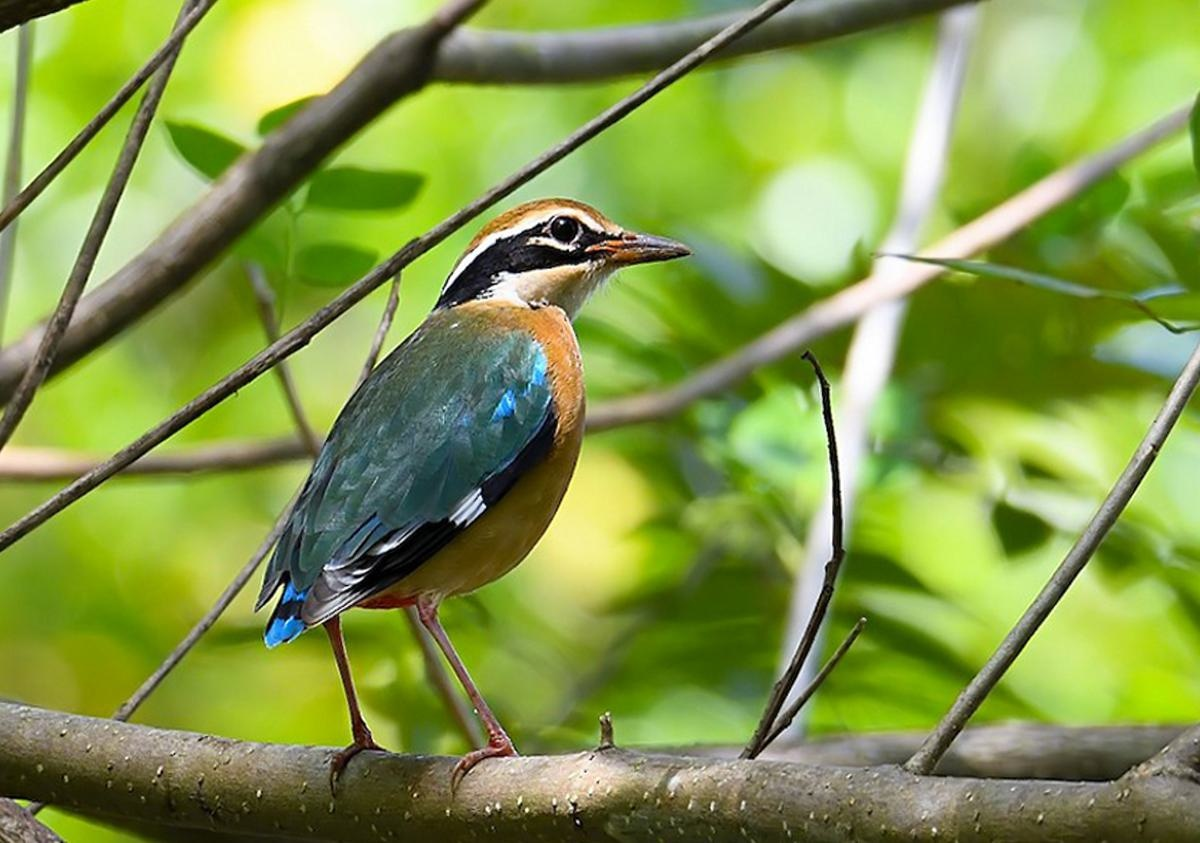pitta: (246, 175, 721, 684)
